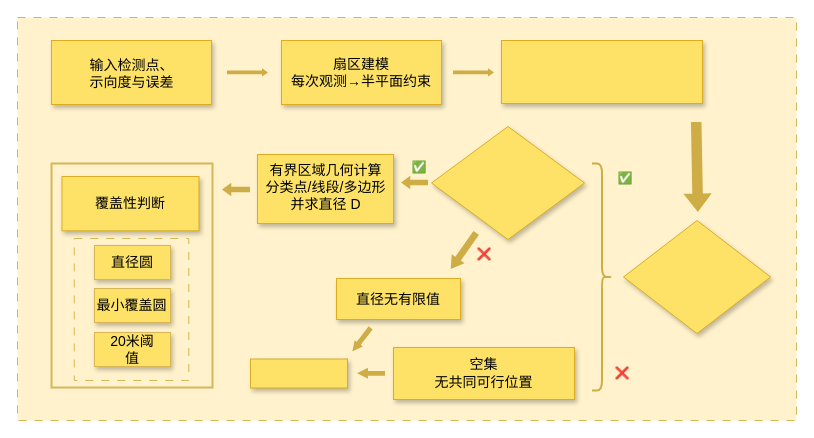
The diagram is 814 pixels wide and 438 high, and some of its shapes have lost their labels. Each missing label, with the centre of its shape:
"共同可行点存在性" goes at (697,278).
"求可行点与候选顶点 交点筛选、凸包与可行性见证" goes at (602,73).
"返回报错信息" goes at (300,374).
"非零衰退方向存在性" goes at (508,184).
